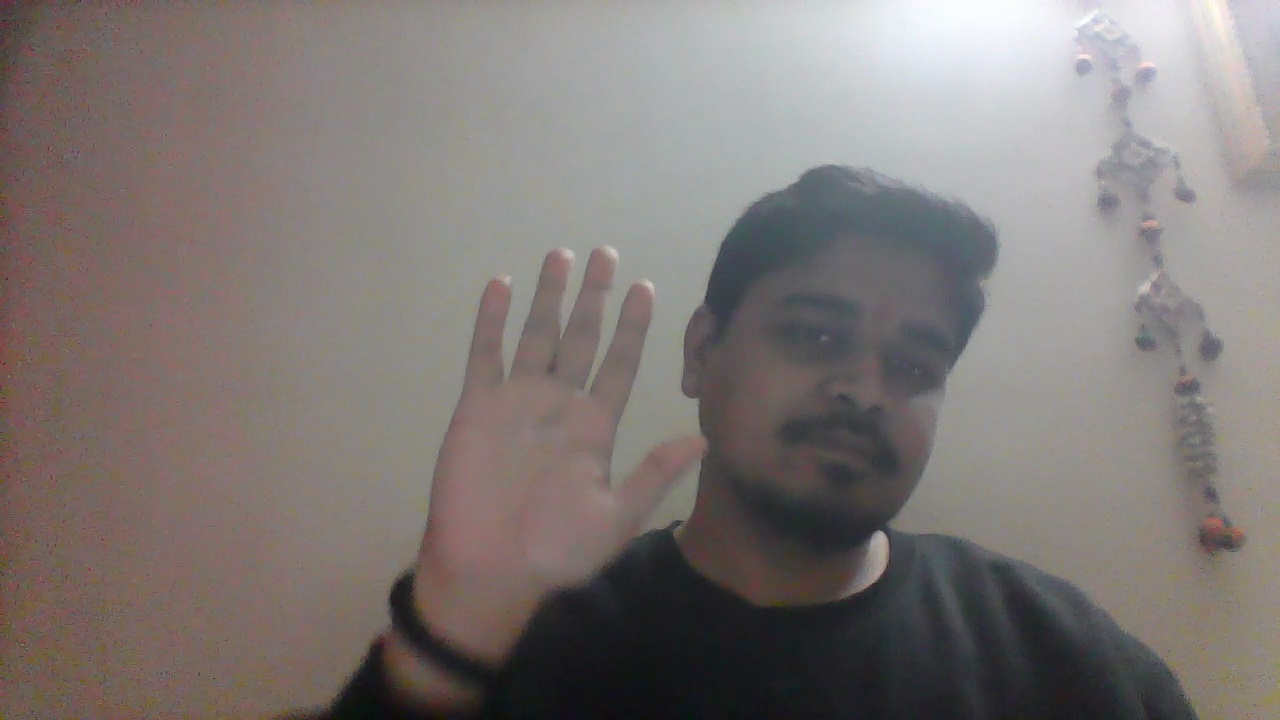Hello: (415, 239, 708, 586)
